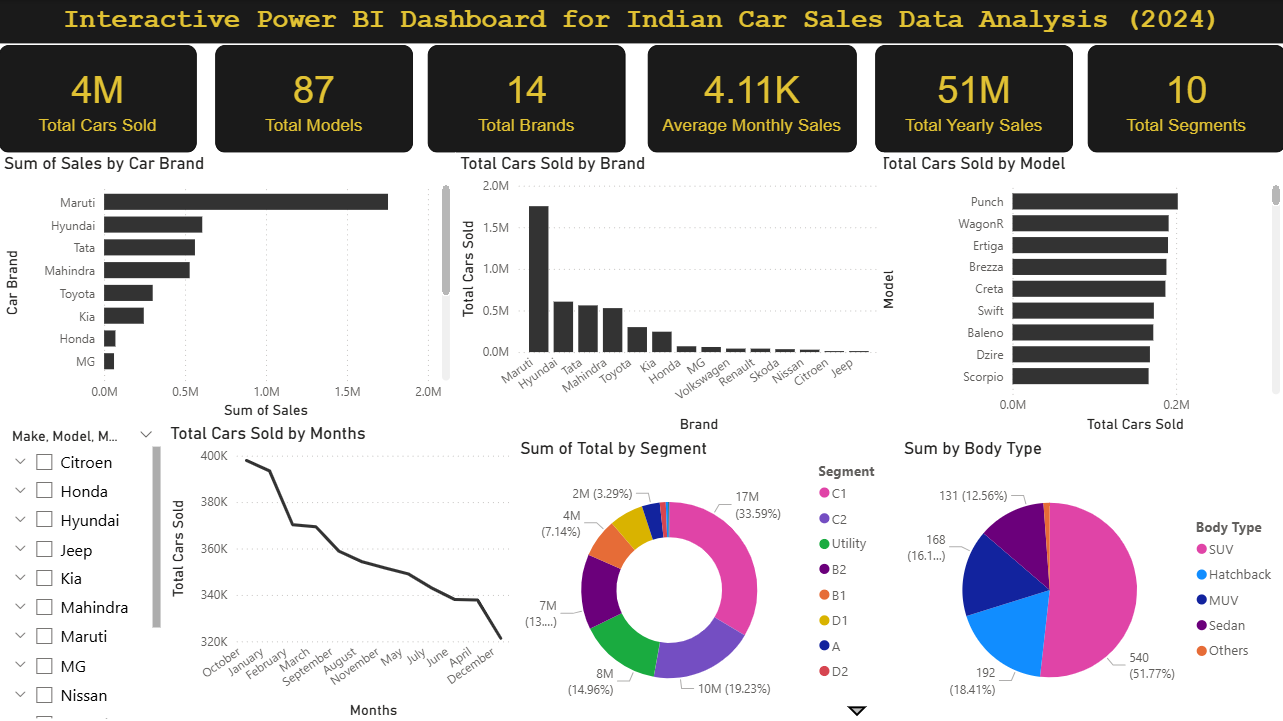

Layout of this report page (visuals, bound fields, positions):
{"tool":"powerbi","page":{"name":"Page 1","canvas":[1280,720],"ordinal":0},"visuals":[{"type":"card","fields":{"Values":["Sheet1.Total Cars Sold"]},"box":[0,44.8,196.5,107],"z":0},{"type":"card","fields":{"Values":["Sheet1.Total Models"]},"box":[215.2,44.8,196.5,107],"z":1},{"type":"card","fields":{"Values":["Sheet1.Total Brands"]},"box":[426.7,44.8,196.5,107],"z":2},{"type":"card","fields":{"Values":["Car Sales.Average Monthly Sales"]},"box":[645.6,44.8,207.7,107],"z":3},{"type":"card","fields":{"Values":["Car Sales.Total Yearly Sales"]},"box":[872,44.8,196.5,107],"z":4},{"type":"card","fields":{"Values":["Car Sales.Total Segments"]},"box":[1083.4,44.8,196.5,107],"z":5},{"type":"clusteredBarChart","fields":{"Category":["Car Sales.Make"],"Y":["Sum(Car Sales.Sales)"]},"box":[0,151.8,454,269.9],"z":6},{"type":"pieChart","fields":{"Category":["Car Sales.Body Type"],"Y":["CountNonNull(Car Sales.Total)"]},"box":[895.7,435.4,384.4,284.9],"z":7},{"type":"donutChart","fields":{"Category":["Car Sales.Segment"],"Y":["Sum(Car Sales.Total)"]},"box":[513.8,435.4,381.9,284.9],"z":8},{"type":"barChart","fields":{"Category":["Car Sales.Model"],"Y":["Car Sales.Total Cars Sold"]},"box":[872,151.8,408,283.6],"z":10},{"type":"slicer","fields":{"Values":["Car Sales.Make","Car Sales.Model","Car Sales.Months","Car Sales.Body Type","Car Sales.Segment"]},"box":[0,420.5,165.4,299.8],"z":11},{"type":"lineChart","fields":{"Y":["Car Sales.Total Cars Sold"],"Category":["Car Sales.Months"]},"box":[165.4,420.5,348.3,299.8],"z":12},{"type":"lineClusteredColumnComboChart","fields":{"Y":["Car Sales.Total Cars Sold"],"Category":["Car Sales.Make"]},"box":[454,151.8,426.7,283.6],"z":13},{"type":"textbox","box":[0,0,1280,43.5],"z":14}]}

Visuals, with their boxes in screenshot pixels (x1, y1, x2, y2), scaled from the page's 1280x720 canvas onto the 1283x721 screenshot:
card - Sheet1.Total Cars Sold: (x1=0, y1=45, x2=197, y2=152)
card - Sheet1.Total Models: (x1=216, y1=45, x2=413, y2=152)
card - Sheet1.Total Brands: (x1=428, y1=45, x2=625, y2=152)
card - Car Sales.Average Monthly Sales: (x1=647, y1=45, x2=855, y2=152)
card - Car Sales.Total Yearly Sales: (x1=874, y1=45, x2=1071, y2=152)
card - Car Sales.Total Segments: (x1=1086, y1=45, x2=1282, y2=152)
clusteredBarChart - Car Sales.Make x Sum(Car Sales.Sales): (x1=0, y1=152, x2=455, y2=422)
pieChart - Car Sales.Body Type x CountNonNull(Car Sales.Total): (x1=898, y1=436, x2=1282, y2=720)
donutChart - Car Sales.Segment x Sum(Car Sales.Total): (x1=515, y1=436, x2=898, y2=720)
barChart - Car Sales.Model x Car Sales.Total Cars Sold: (x1=874, y1=152, x2=1282, y2=436)
slicer - Car Sales.Make x Car Sales.Model: (x1=0, y1=421, x2=166, y2=720)
lineChart - Car Sales.Total Cars Sold x Car Sales.Months: (x1=166, y1=421, x2=515, y2=720)
lineClusteredColumnComboChart - Car Sales.Total Cars Sold x Car Sales.Make: (x1=455, y1=152, x2=883, y2=436)
textbox: (x1=0, y1=0, x2=1282, y2=44)
